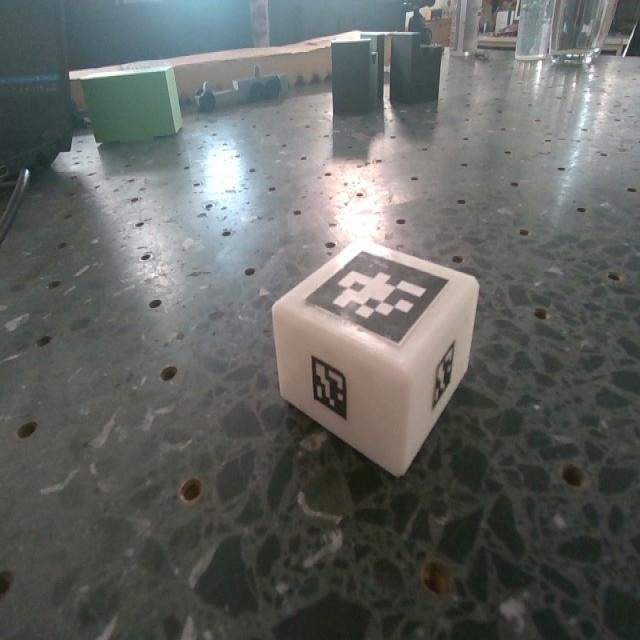Cube: (272, 240, 480, 480)
